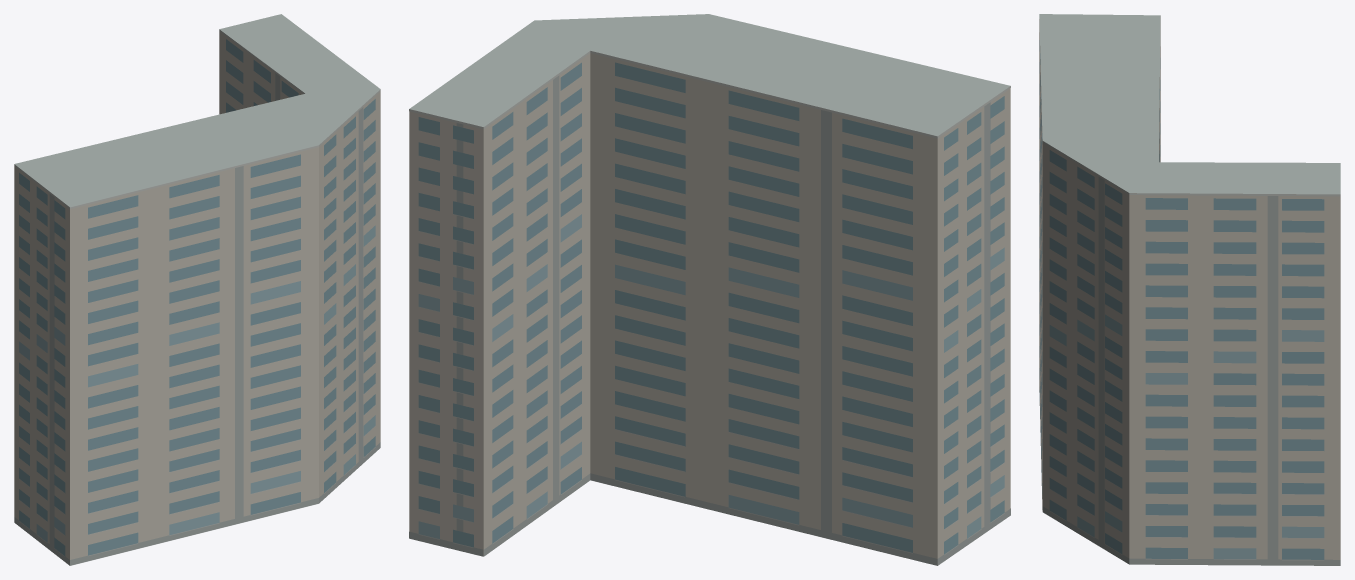
The model's file is residential-b8d85043-64fa-4b3d-885c-66cb21e7785e.glb.
The picture shows the model from 3 angles, left to right: view 1: azimuth 30°, elevation 25°; view 2: azimuth 150°, elevation 25°; view 3: azimuth 270°, elevation 25°; orthographic projection. The views are drawn at different scales.
Visible parts, largest first — view 1: residential-b8d85043-64fa-4b3d-885c-66cb21e7785e.tmp; view 2: residential-b8d85043-64fa-4b3d-885c-66cb21e7785e.tmp; view 3: residential-b8d85043-64fa-4b3d-885c-66cb21e7785e.tmp.
Part boxes in pixels (x1,y1,x2,y2): residential-b8d85043-64fa-4b3d-885c-66cb21e7785e.tmp: (14,14,380,565); residential-b8d85043-64fa-4b3d-885c-66cb21e7785e.tmp: (409,14,1010,565); residential-b8d85043-64fa-4b3d-885c-66cb21e7785e.tmp: (1039,14,1340,565).
Bounding box in the file's own units: 47.92 × 46 × 33.82.
